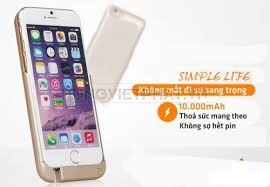iphone: (12, 3, 109, 170)
iphone6: (12, 1, 109, 167)
